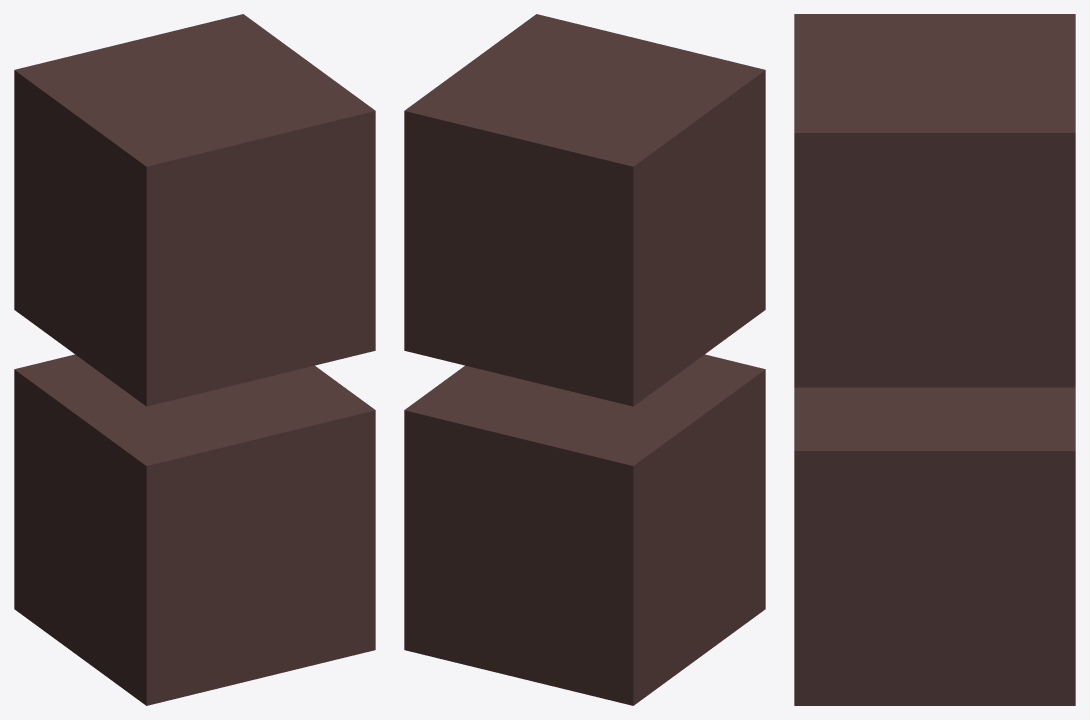
Rendered from Fog of War.fbx.
3 renders of one model, left to right at view 1: azimuth 30°, elevation 25°; view 2: azimuth 150°, elevation 25°; view 3: azimuth 270°, elevation 25°, orthographic. The views are drawn at different scales.
Visible parts, largest first — view 1: pCube6; view 2: pCube6; view 3: pCube6.
Boxes of the visible parts, x1=… form: pCube6: x1=14, y1=14, x2=375, y2=705; pCube6: x1=404, y1=14, x2=765, y2=705; pCube6: x1=794, y1=14, x2=1075, y2=705.
Bounding box in the file's own units: 0.04 × 0.0899 × 0.04.
